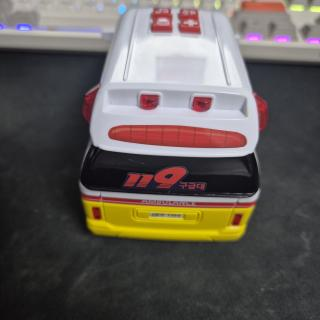Ambulance: (80, 9, 268, 241)
